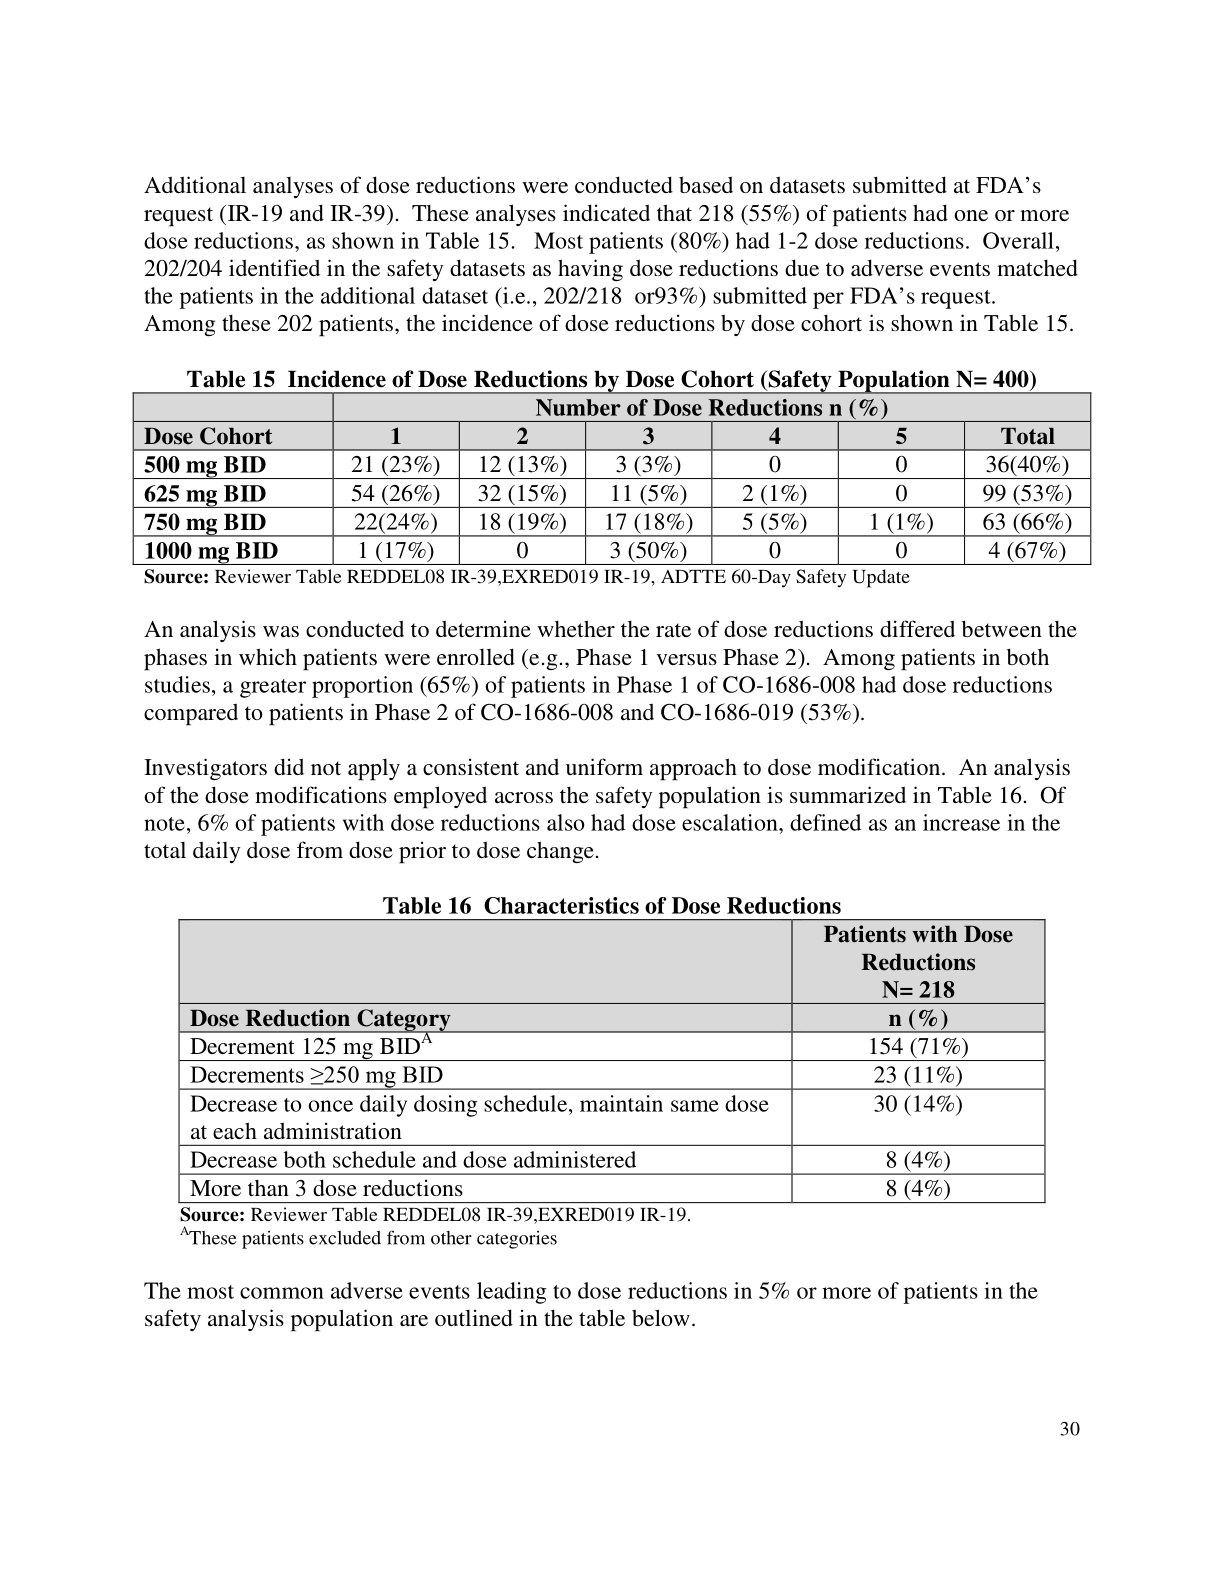full_lined: (177, 917, 1047, 1203)
merged_cells: (131, 390, 1094, 568)
